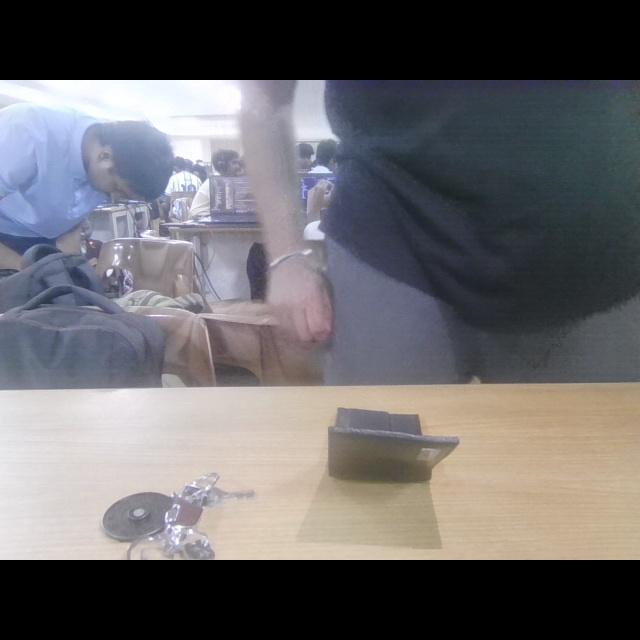keys: (99, 462, 261, 558)
wallet: (322, 389, 456, 487)
